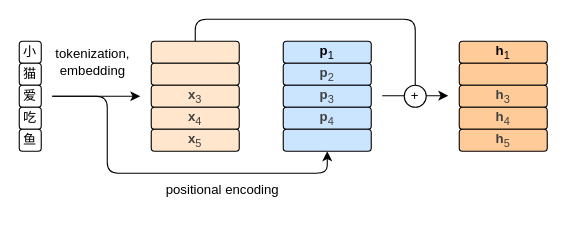
Image size: 567x226. Some labels were removed from this diagram. Here are the shapes that lost their labels. From the top down, the box of each, then its label:
(150, 40, 239, 63): x 1
(150, 62, 239, 85): x 2
(458, 62, 547, 85): h 2
(282, 128, 371, 151): p 5
